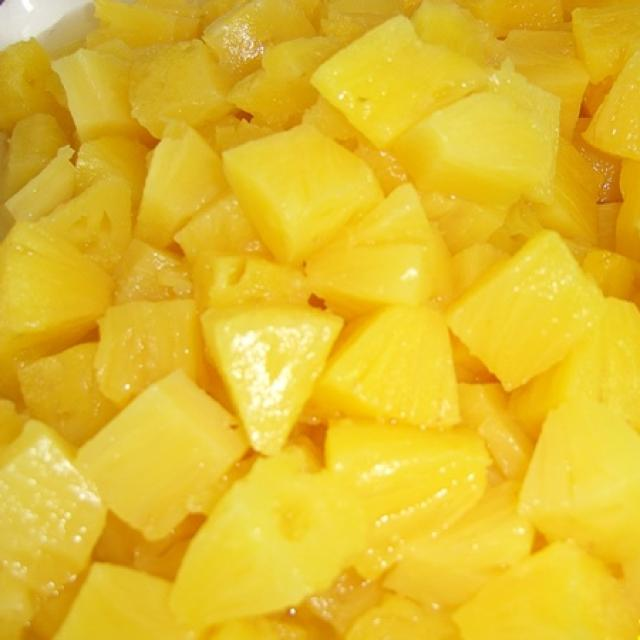pineapple: (3, 0, 638, 639)
